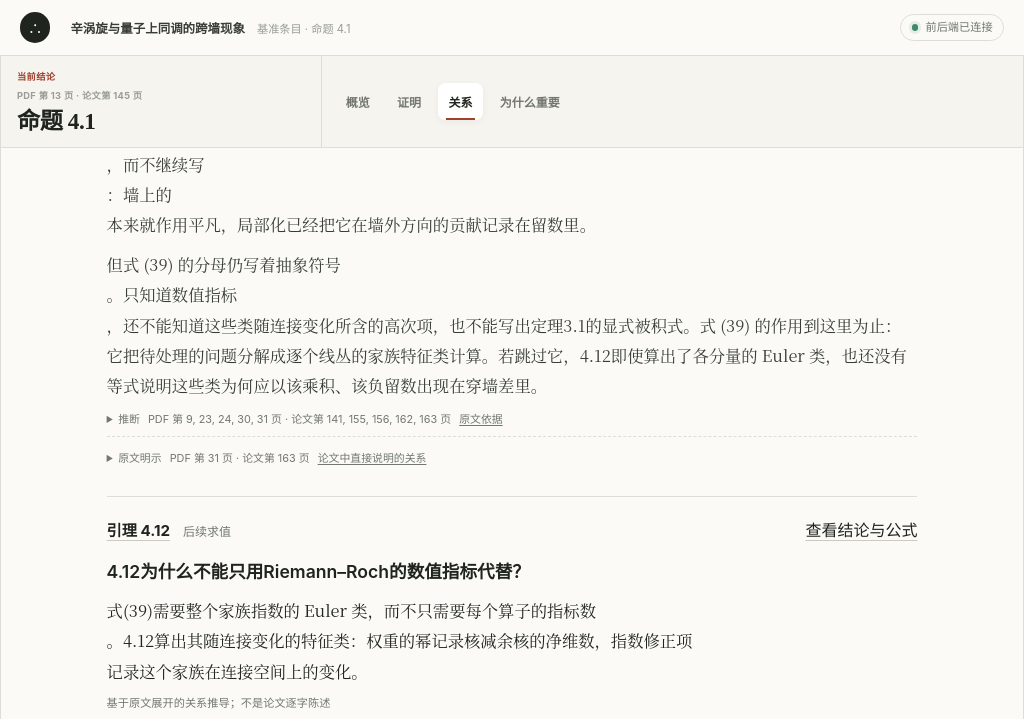
Test: PaperReader › 关系说明始终展开，仅原文依据折叠，保留原文页码和 PDF 跳转
(page scrolled)
expect the text "前后端已连接" is shown: met, box [900,14,1004,41]
Click the heading that starts with "原文明示" at x=272, y=458, box [118,451,426,465]
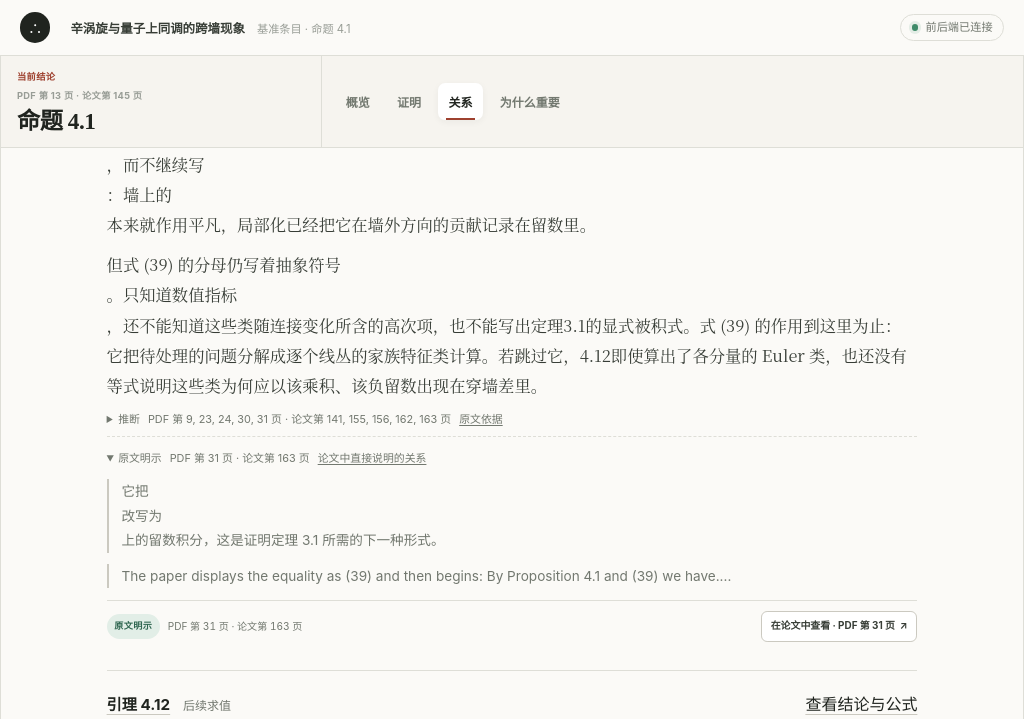
expect the element showing "它把 改写为 上的留数积分，这是证明定理 3.1 所需的下一种形式。" is shown: met, box [107,479,917,553]
expect the text "The paper displays the equality as (39) and then begins: By Proposition 4.1 and (39) we have...." is shown: met, box [121,568,731,584]
Click the heading that starts with "原文明示" at x=272, y=458, box [118,451,426,465]
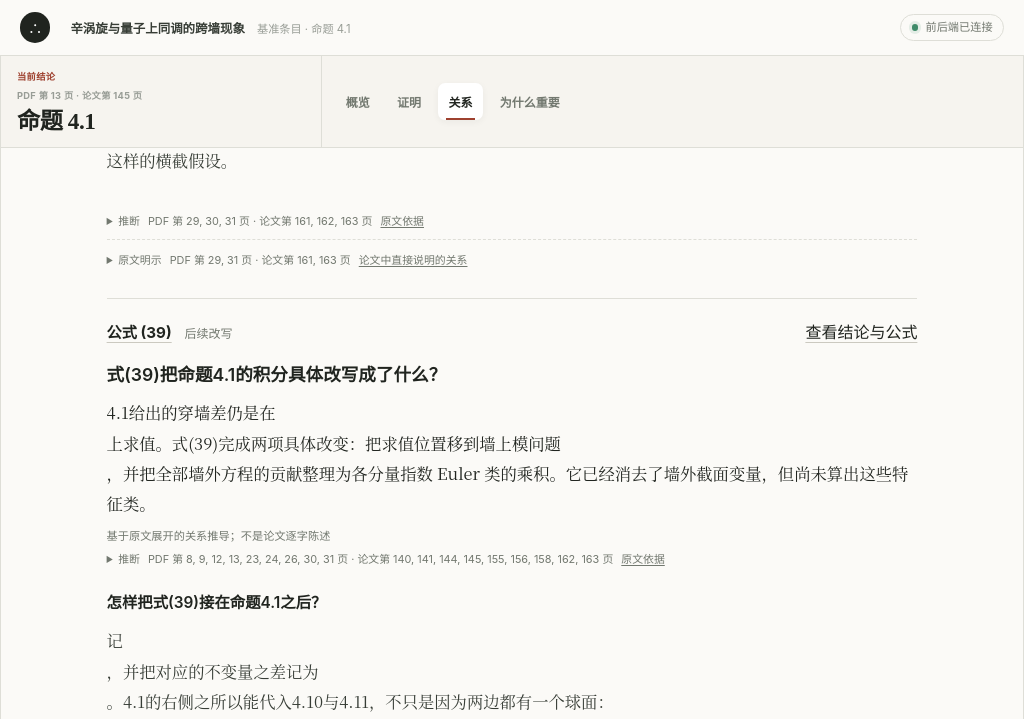
expect the element with class "relations-reading__explanation" is shown: met, box [107,397,917,518]
